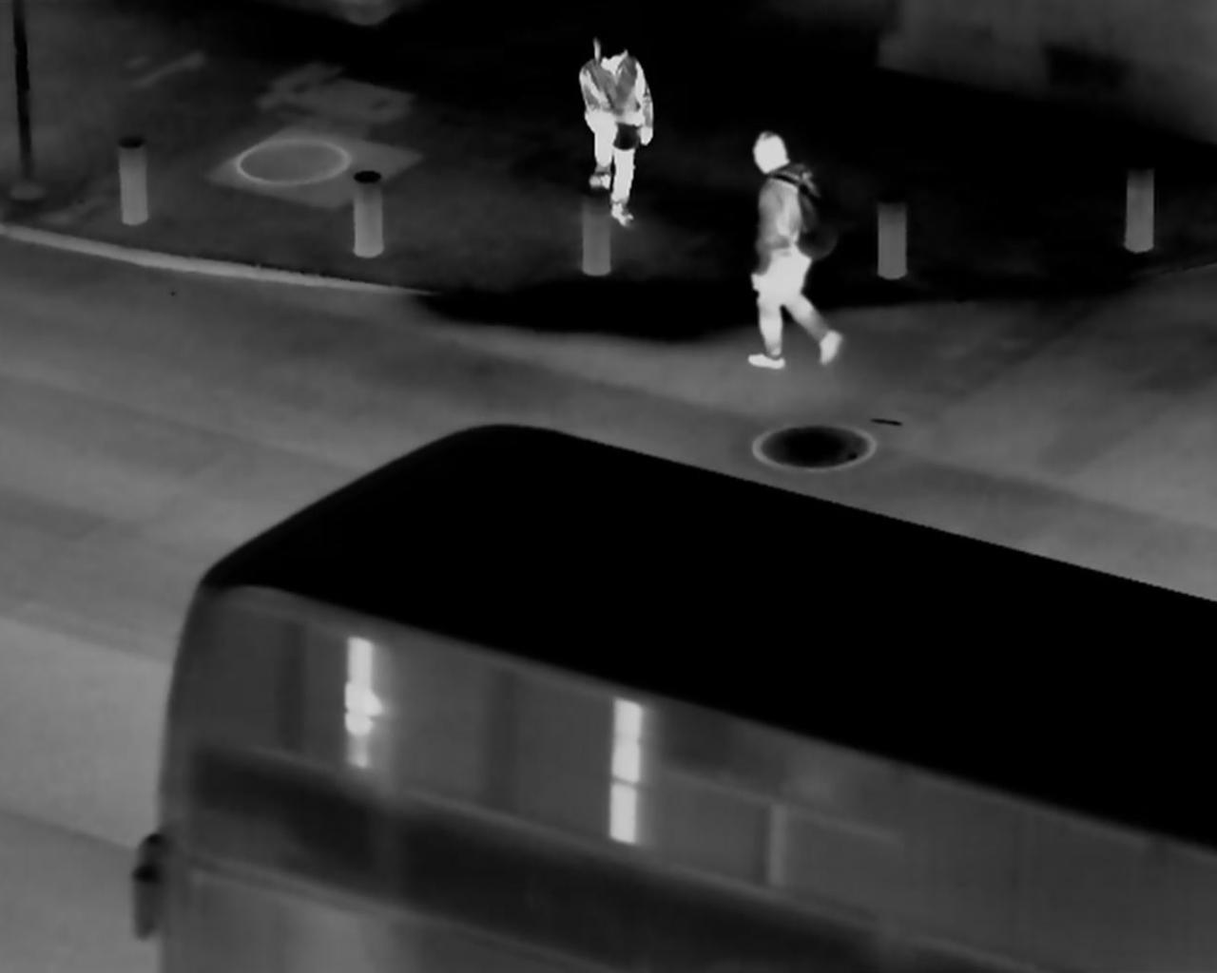person: (727, 114, 853, 376), (571, 27, 658, 227)
